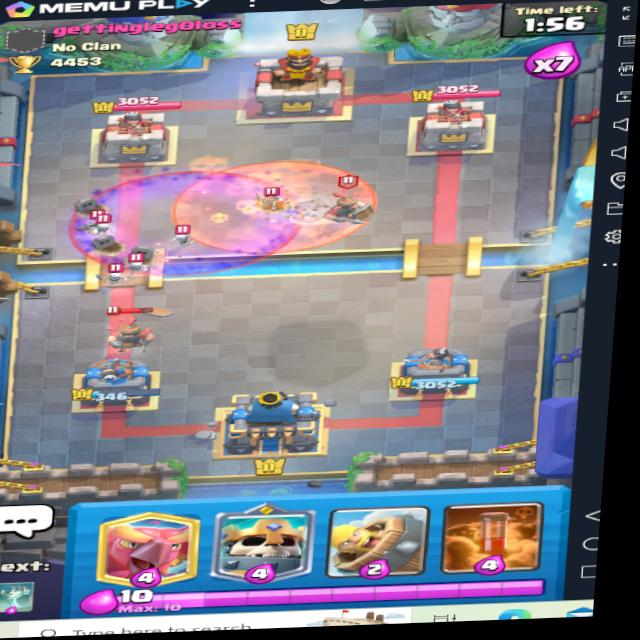graveyard: (66, 161, 302, 275)
poison: (164, 153, 365, 256)
royal-recruits: (309, 173, 373, 231), (101, 308, 159, 362)
skeleton: (160, 222, 204, 251), (242, 188, 283, 214), (85, 216, 125, 237), (125, 248, 161, 271), (105, 265, 137, 286)
